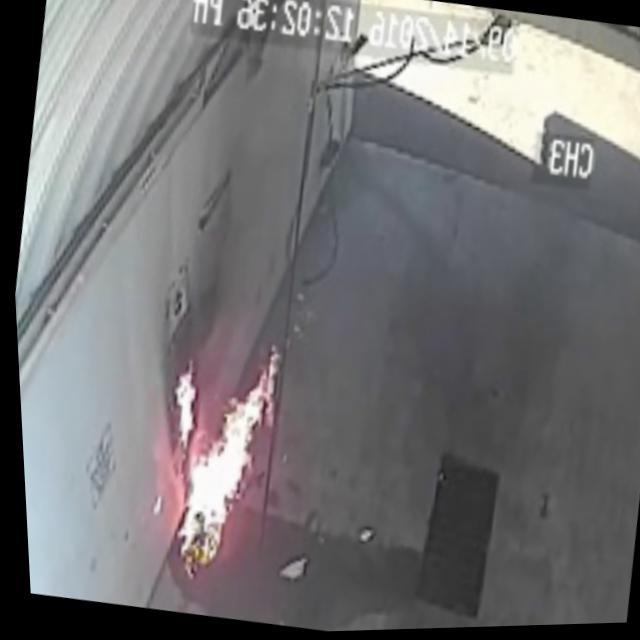fire: (201, 389, 258, 541), (166, 447, 222, 574), (154, 361, 200, 443), (246, 350, 282, 425)
